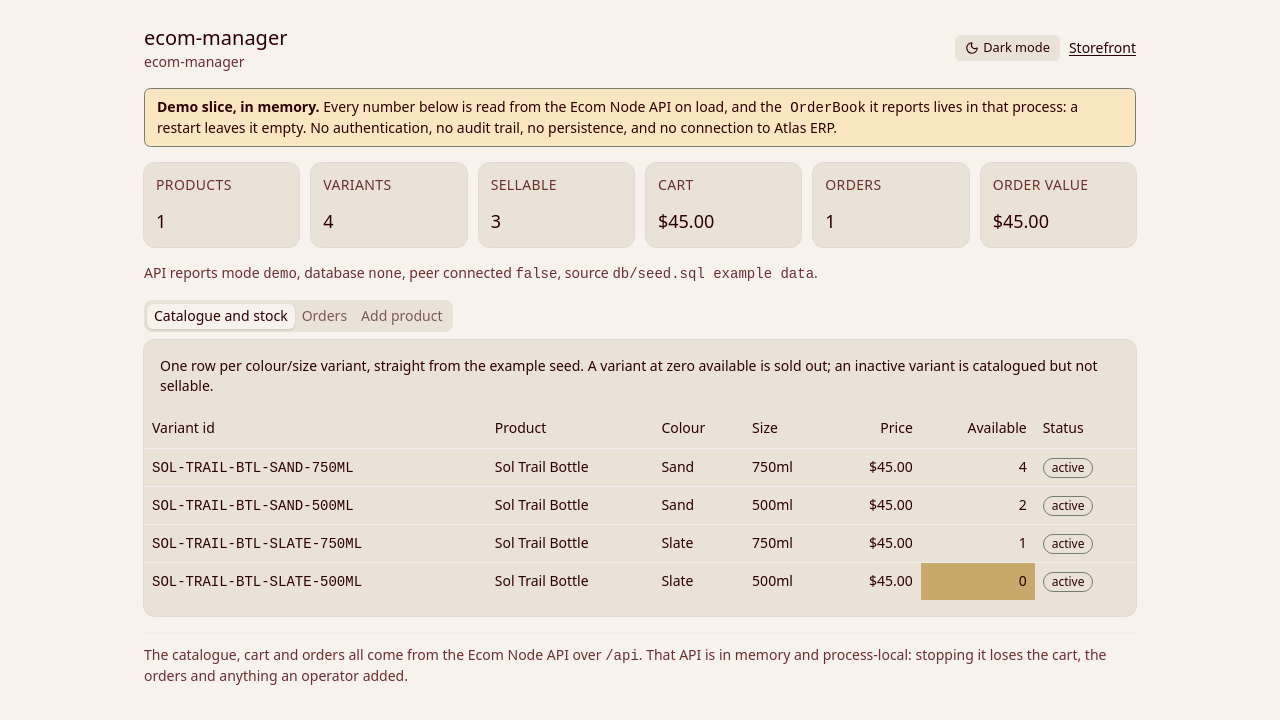
Scenario: ecom-manager › lists orders from /api/orders and says the book is in memory
Expected: the text "API reports mode" is shown, [144,263,263,282]
Step 1. Click the tab "Orders" → (324, 316), box [295,304,354,328]
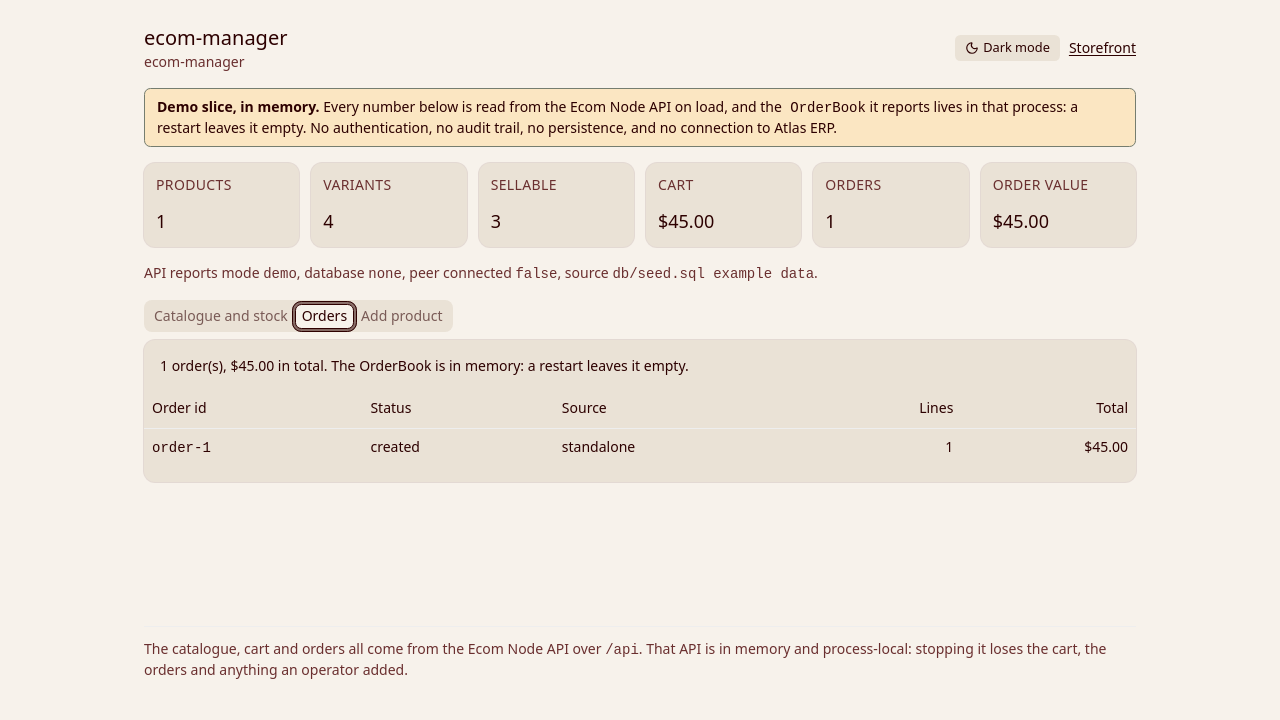
Expected: the text "order-1" is shown, [152,440,211,456]
Expected: the text "created" is shown, [362,428,554,466]
Expected: the text "The OrderBook is in memory" is shown, [160,356,689,375]
